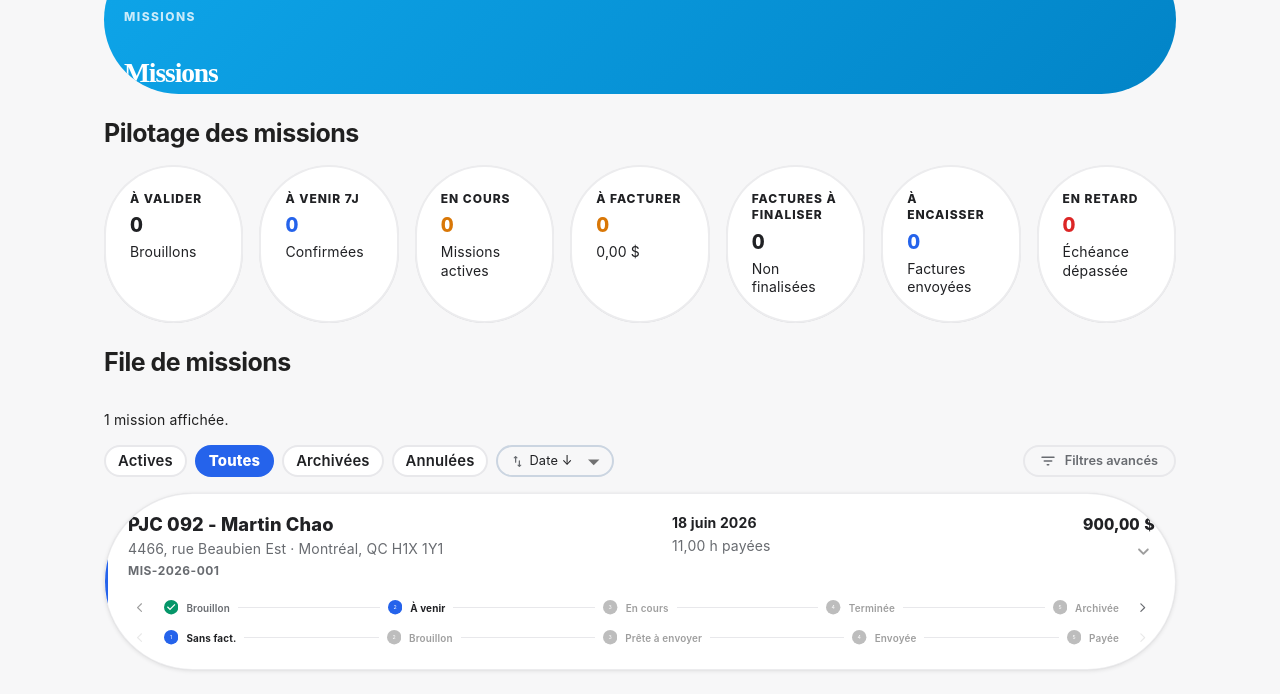
Test: MissionsPage render › shows confirmation dialog when clicking Annuler la mission in drawer
This screenshot has width=1280, height=694.
(page scrolled)
Click the button "PJC 092 - Martin Chao" at (640, 582), box [105,494,1175,669]
(page scrolled)
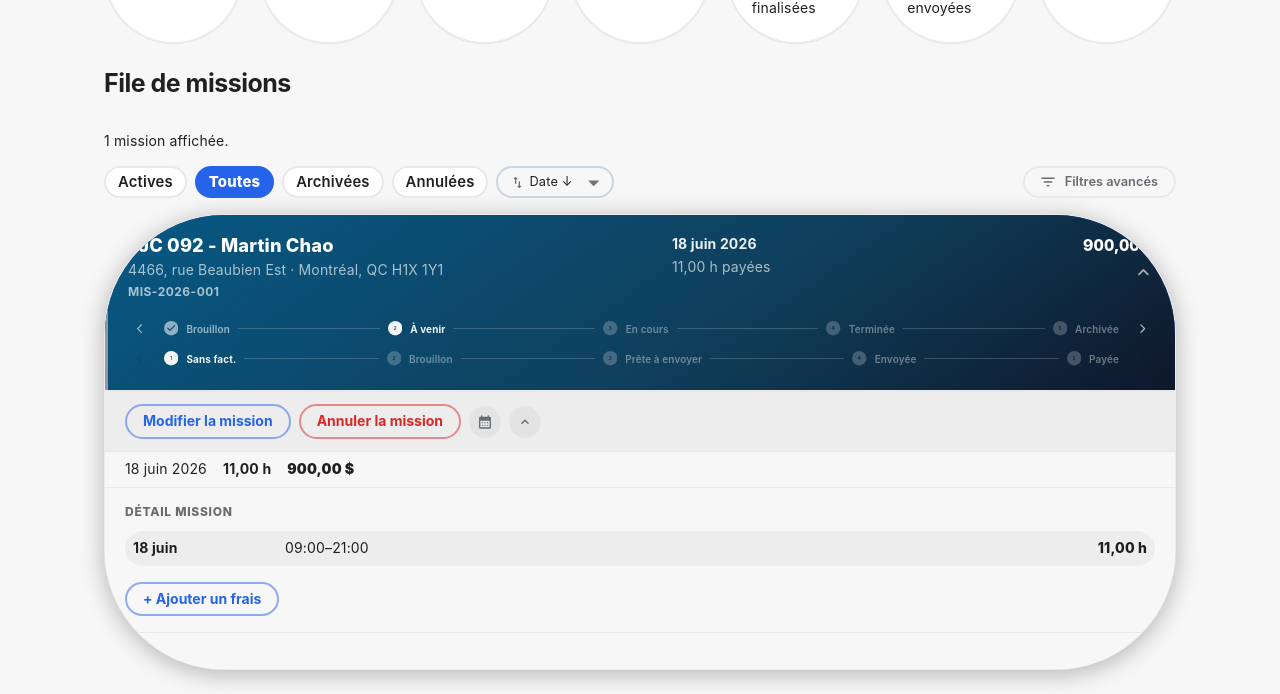
Click the button "Annuler la mission" at (380, 422), box [299,404,461,439]
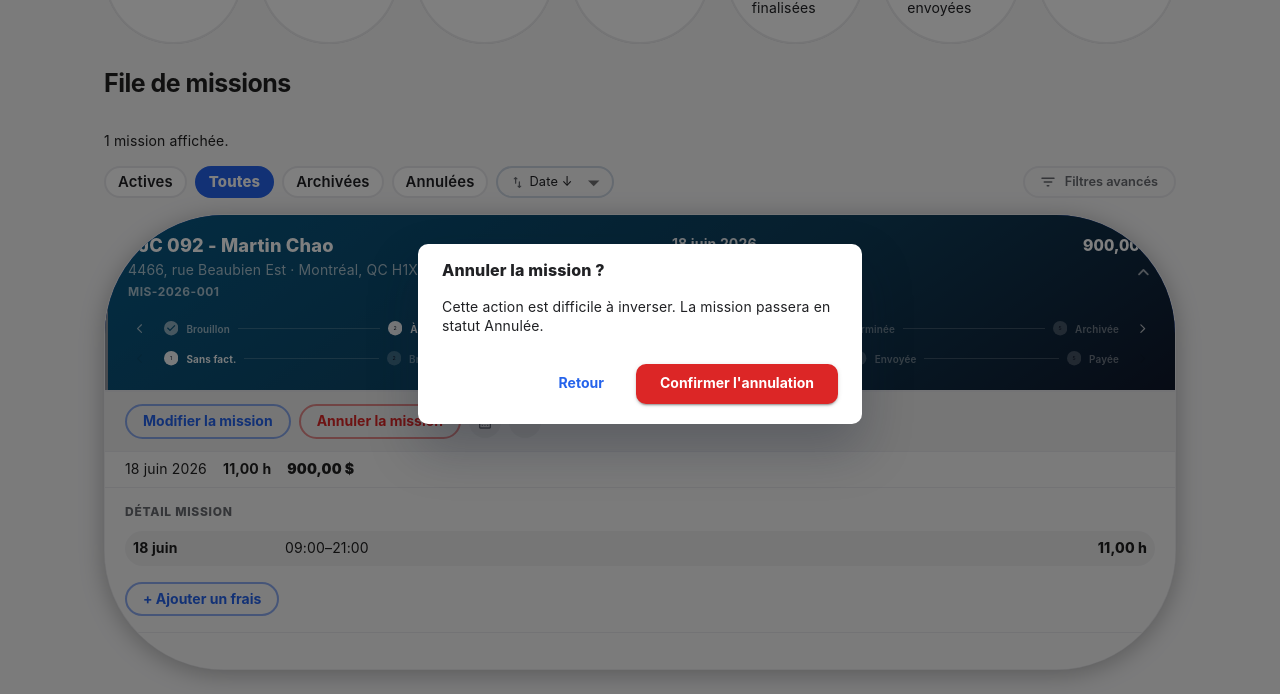
Check: the heading "Annuler la mission ?" is shown, box [442,260,605,280]
Check: the button "Confirmer l'annulation" is shown, box [636,364,838,404]
